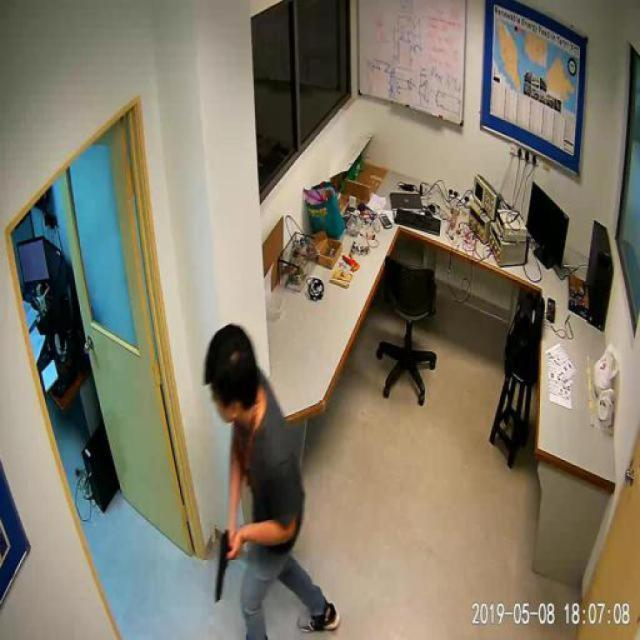pistol: (214, 524, 236, 600)
